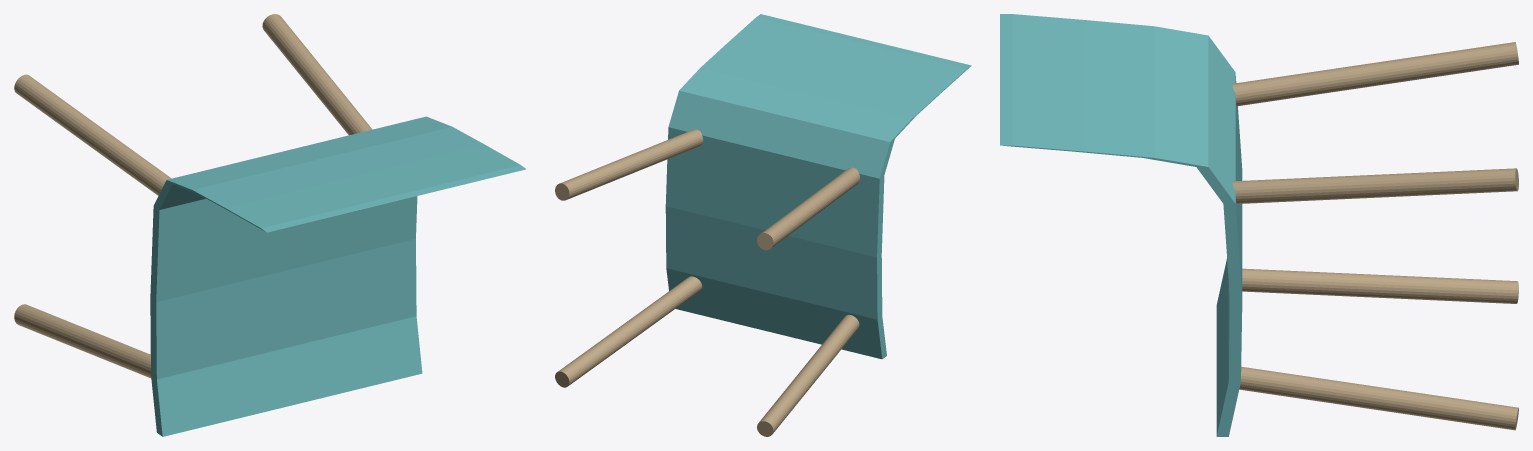
Rendered from design-image-to-3d.glb.
3 views of the same model, side by side, from view 1: azimuth 30°, elevation 25°; view 2: azimuth 150°, elevation 25°; view 3: azimuth 270°, elevation 25° (orthographic). The views are drawn at different scales.
Parts seen in each view (by area): view 1: shell, leg-3, leg-4, leg-1; view 2: shell, leg-2, leg-4, leg-1, leg-3; view 3: shell, leg-3, leg-4, leg-2, leg-1.
Boxes of the visible parts, x1,y1,x2,y2 form: shell: (150,116,526,436); leg-3: (14,74,171,195); leg-4: (262,14,372,135); leg-1: (14,304,151,378); shell: (665,14,971,359); leg-2: (555,276,702,387); leg-4: (555,129,703,200); leg-1: (757,314,859,436); leg-3: (757,167,859,250); shell: (1000,14,1242,436); leg-3: (1232,42,1518,106); leg-4: (1232,168,1518,203); leg-2: (1239,366,1518,430); leg-1: (1242,268,1518,303).
Size of the model in its own units: 0.4756 by 0.475 by 0.7667.
